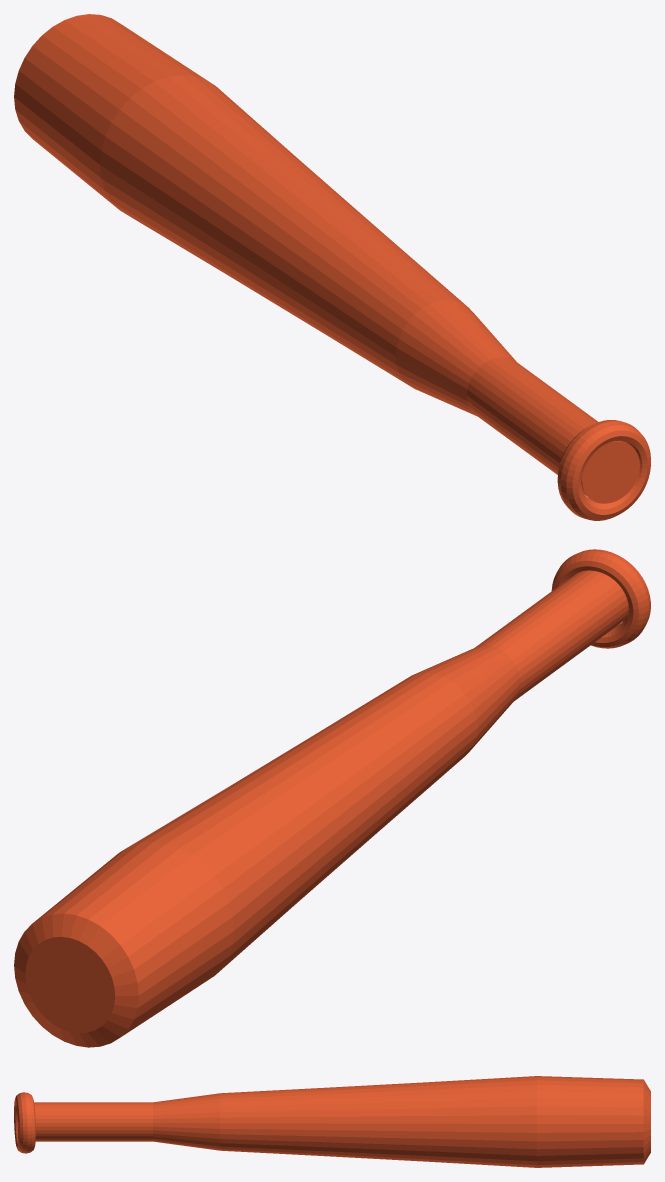
File: batModel.fbx
3 views of the same model, one above another, from view 1: azimuth 30°, elevation 25°; view 2: azimuth 150°, elevation 25°; view 3: azimuth 270°, elevation 25° (orthographic). The views are drawn at different scales.
Visible parts, largest first — view 1: Cylinder, Torus; view 2: Cylinder, Torus; view 3: Cylinder, Torus.
Boxes of the visible parts, bbox=[...] form: Cylinder: bbox=[14, 14, 639, 503]; Torus: bbox=[557, 420, 650, 520]; Cylinder: bbox=[14, 570, 627, 1047]; Torus: bbox=[551, 549, 650, 648]; Cylinder: bbox=[18, 1076, 650, 1167]; Torus: bbox=[14, 1092, 35, 1153].
Size of the model in its own units: 234 by 234 by 1620.
